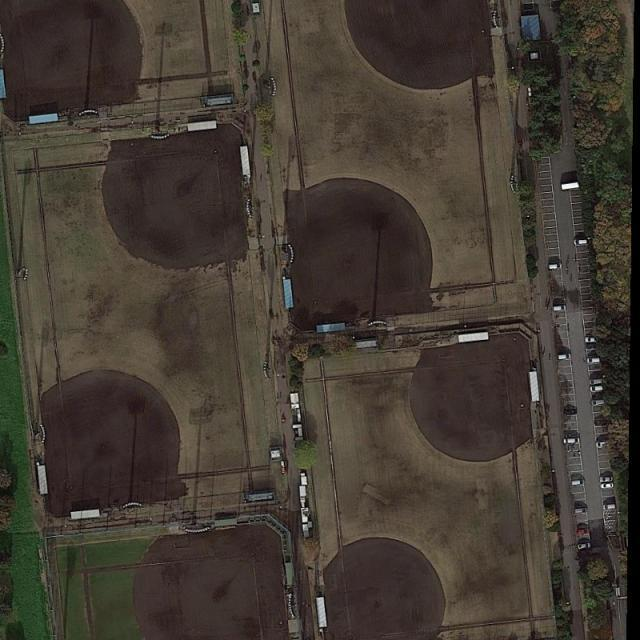vehicle: (591, 399, 606, 407), (563, 437, 582, 443), (586, 357, 602, 364), (577, 542, 591, 550), (596, 441, 610, 449), (574, 239, 589, 246), (595, 419, 609, 426), (549, 262, 563, 269), (553, 304, 567, 311), (574, 506, 588, 513), (571, 479, 586, 485), (578, 528, 590, 535), (600, 476, 614, 482), (590, 386, 603, 392), (590, 378, 603, 384), (563, 410, 578, 415), (558, 354, 573, 359), (586, 336, 598, 342), (604, 504, 616, 510), (602, 483, 615, 488)
